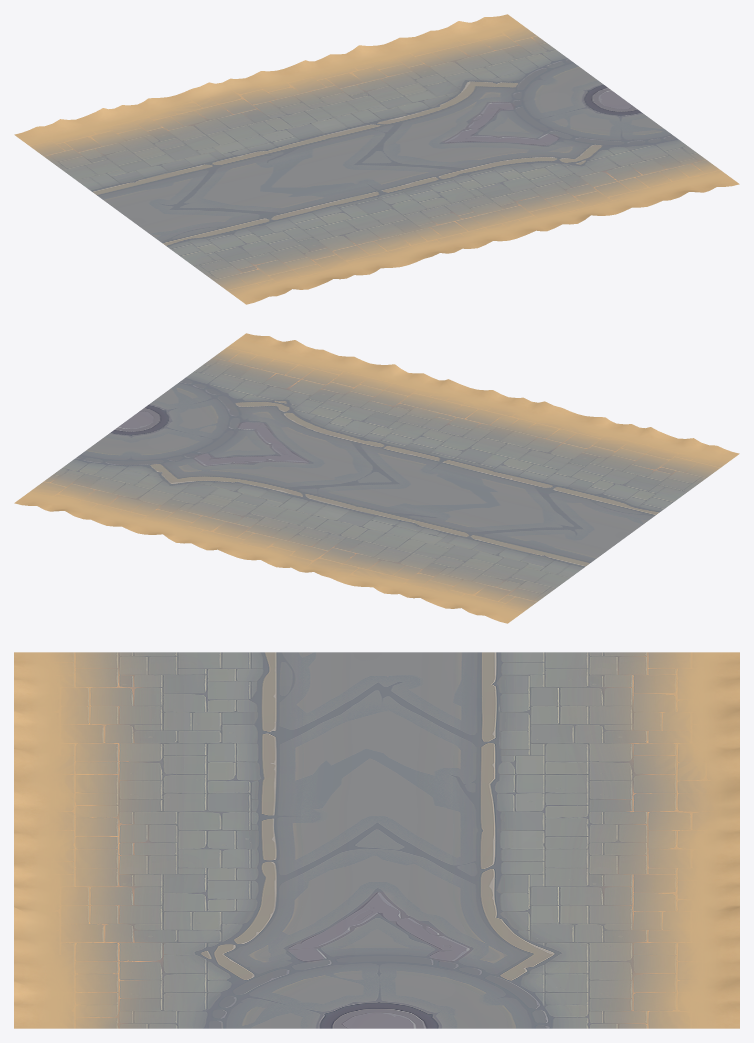
File: Bridge33.FBX
3 renders of one model, top to bottom at view 1: azimuth 30°, elevation 25°; view 2: azimuth 150°, elevation 25°; view 3: azimuth 270°, elevation 25°, orthographic. The views are drawn at different scales.
Visible parts, largest first — view 1: Bridge334; view 2: Bridge334; view 3: Bridge334.
Boxes of the visible parts, x1,y1,x2,y2 form: Bridge334: [14, 14, 739, 304]; Bridge334: [14, 333, 739, 623]; Bridge334: [14, 652, 739, 1028].
Bounding box in the file's own units: 32.03 × 0.3347 × 26.1.
Materials: 1 (1 with a texture image).
